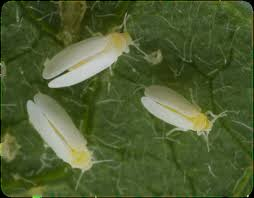Tobacco Whitefly: (24, 92, 100, 172), (43, 26, 134, 90), (139, 82, 218, 143)
